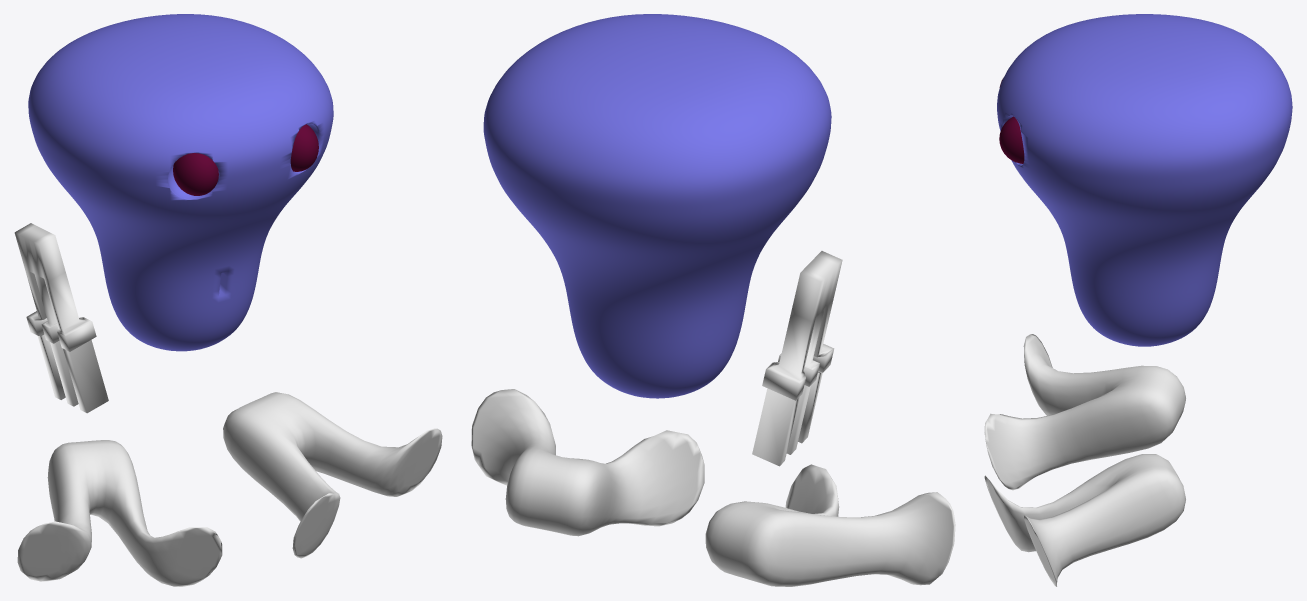
3 views of the same model, side by side, from view 1: azimuth 30°, elevation 25°; view 2: azimuth 150°, elevation 25°; view 3: azimuth 270°, elevation 25° (orthographic). The views are drawn at different scales.
Visible parts, largest first — view 1: Cube, Куб.001, Куб, Сфера; view 2: Cube, Куб.001, Куб; view 3: Cube, Куб.001, Сфера.
Part boxes in pixels (box(x1,y1,x2,y2)): Cube: box(28, 14, 333, 351); Куб.001: box(17, 392, 442, 586); Куб: box(14, 223, 108, 413); Сфера: box(173, 124, 318, 195); Cube: box(483, 14, 831, 398); Куб.001: box(471, 389, 955, 586); Куб: box(752, 251, 842, 466); Cube: box(997, 14, 1292, 346); Куб.001: box(984, 334, 1185, 586); Сфера: box(999, 79, 1024, 163).
Size of the model in its own units: 3.19 by 3.45 by 2.04.
